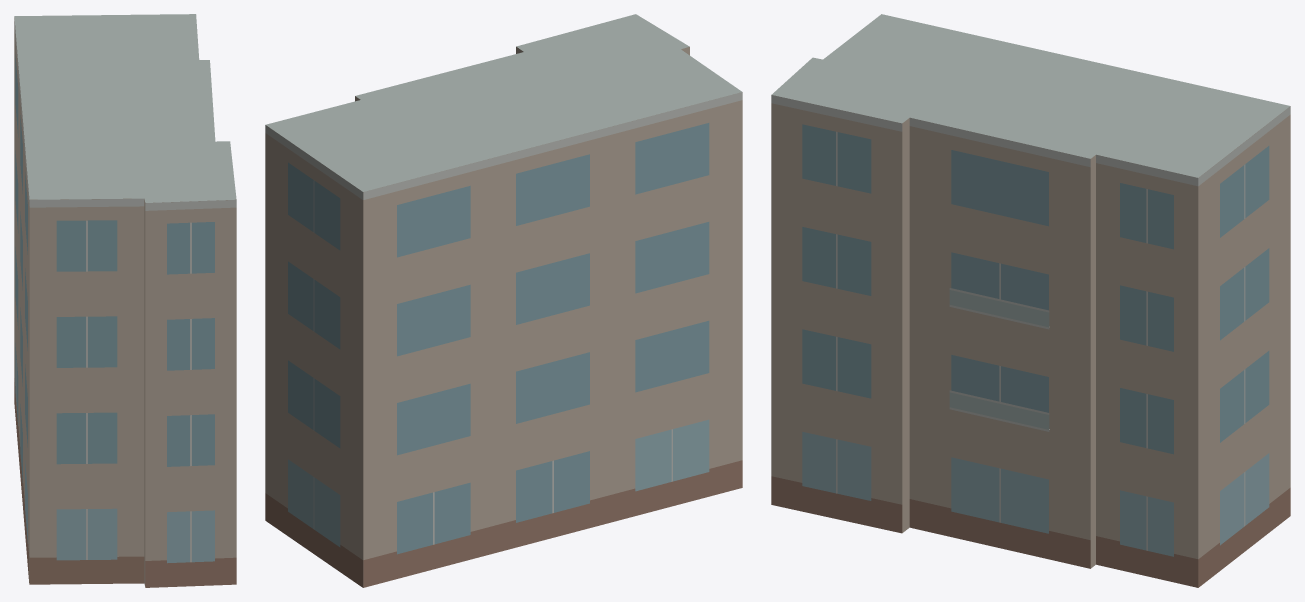
Rendered from survey-upis-32920634.glb.
The picture shows the model from 3 angles, left to right: view 1: azimuth 30°, elevation 25°; view 2: azimuth 150°, elevation 25°; view 3: azimuth 270°, elevation 25°; orthographic projection. The views are drawn at different scales.
Visible parts, largest first — view 1: survey-upis-32920634.tmp; view 2: survey-upis-32920634.tmp; view 3: survey-upis-32920634.tmp.
Boxes of the visible parts, x1,y1,x2,y2 form: survey-upis-32920634.tmp: (14,14,236,587); survey-upis-32920634.tmp: (265,14,742,587); survey-upis-32920634.tmp: (771,14,1290,587).
Bounding box in the file's own units: 10.22 × 11.91 × 13.68.
